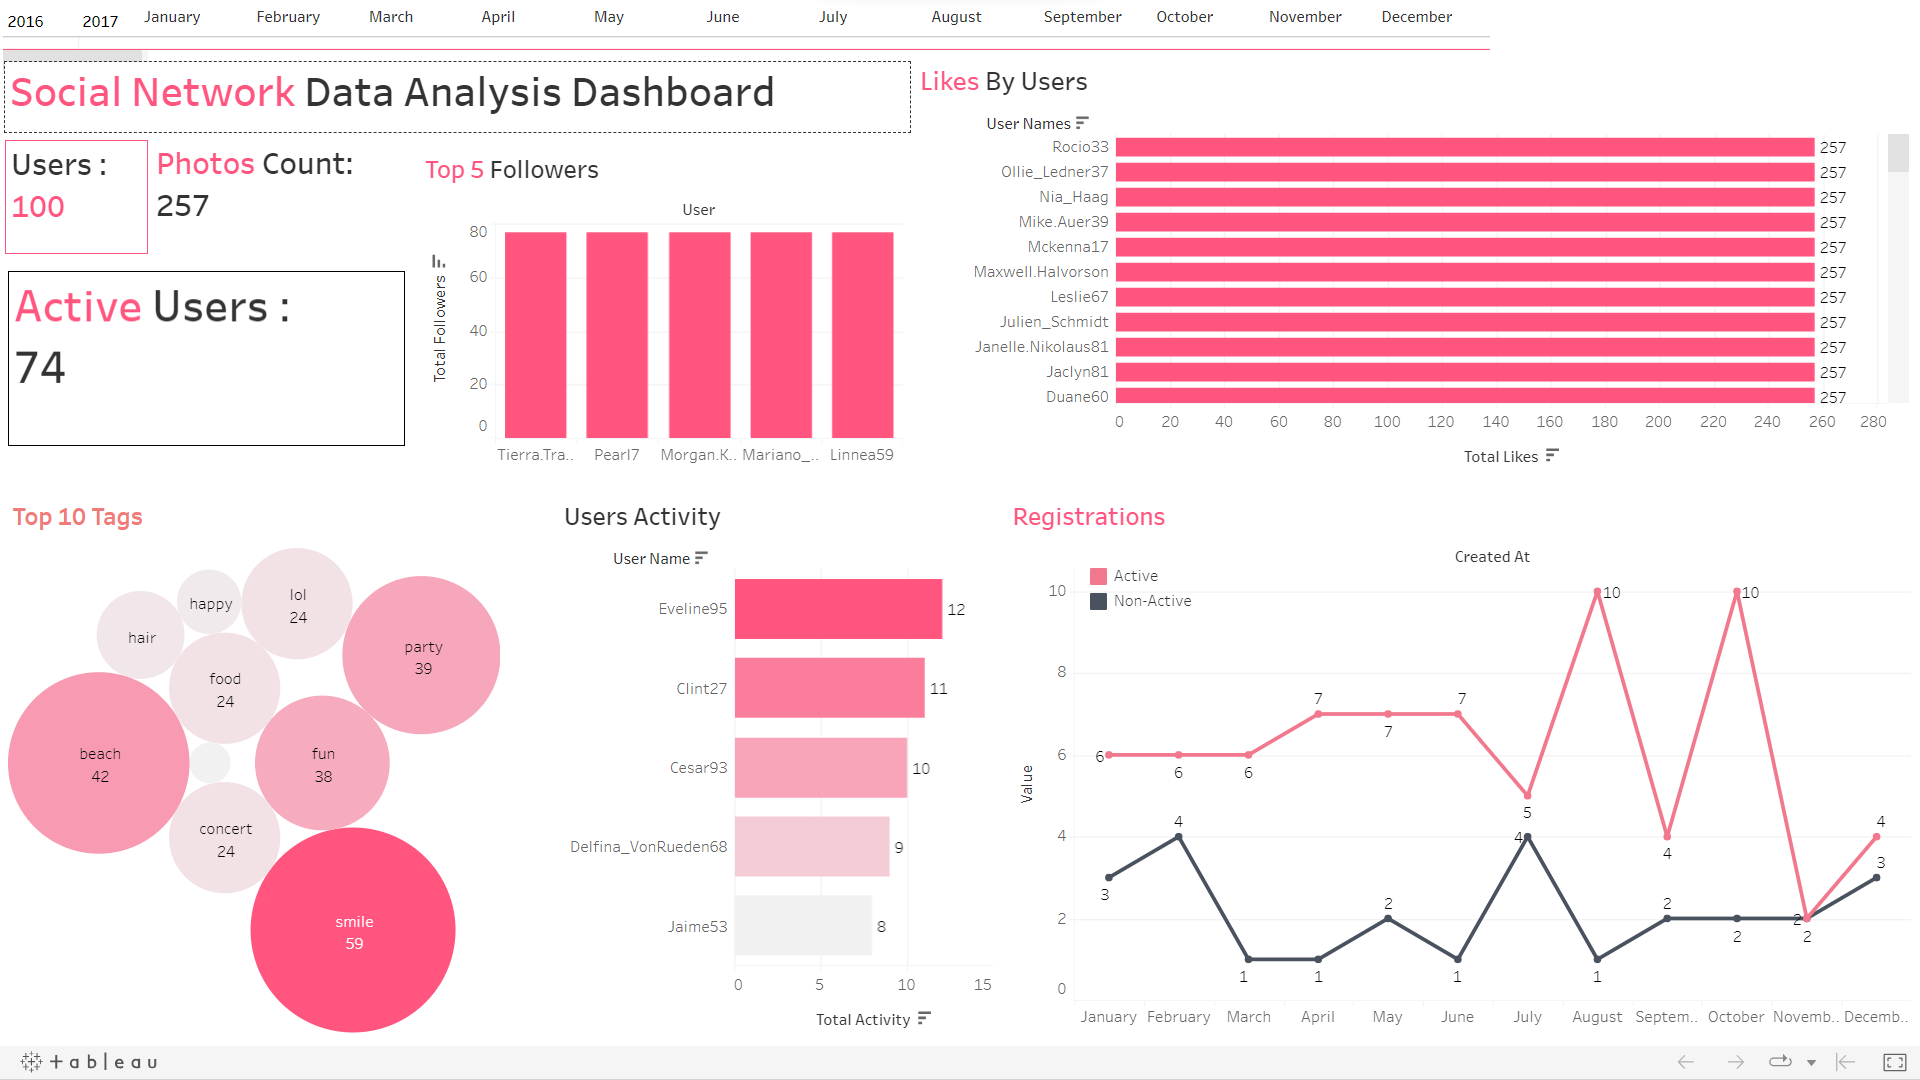

This screenshot's page, from the dashboard's own definition file:
{"tool":"tableau","page":{"name":"Dashboard 1","canvas":[1000,1000],"units":"permille","ordinal":0},"visuals":[{"type":"worksheet","title":"Years","mark":"Automatic","cols":["created_at"],"box":[1.2,5.9,75.4,65.8]},{"type":"worksheet","title":"Likes By Users","mark":"Automatic","rows":["username (Likes By Users.csv)"],"cols":["total_likes"],"box":[476.8,52.9,517.8,399.5]},{"type":"worksheet","title":"Header","mark":"Automatic","box":[1.8,58.8,472.5,68.2]},{"type":"worksheet","title":"Users","mark":"Automatic","box":[2.4,134,74.2,108.1]},{"type":"worksheet","title":"Photo Count","mark":"Automatic","box":[79.1,134,141.2,108.1]},{"type":"worksheet","title":"Total Followers","mark":"Automatic","rows":["total_followers"],"cols":["username (Followers.csv)"],"box":[219.1,137.5,251.1,316.1]},{"type":"worksheet","title":"Total Active Users","mark":"Automatic","box":[4.2,259.7,206.4,166.9]},{"type":"worksheet","title":"Tags","mark":"Circle","box":[3.6,470,281.8,520.6]},{"type":"worksheet","title":"Users Activity","mark":"Automatic","rows":["username (Users Activity.csv)"],"cols":["total_activity"],"box":[290.9,470,226.3,520.6]},{"type":"worksheet","title":"Sign Ups","mark":"Line","cols":["created_at"],"box":[524.4,470,470.7,521.7]},{"type":"legend","title":"Sign Ups","param":"[federated.1foif1p1wrm5180zqbak00xclsy4].[:Measure Names]","box":[566.1,515.9,87.5,81.1]}]}

Visuals, with their boxes on the dashboard's canvas, which has no fixed pixel size, in thousandths of its width and height (x1, y1, x2, y2). These are canvas units, not pixel positions in the 1920x1080 screenshot, which may show the page scaled, cropped or inside an application window:
"Years" worksheet: 1:6:77:72
"Likes By Users" worksheet: 477:53:995:452
"Header" worksheet: 2:59:474:127
"Users" worksheet: 2:134:77:242
"Photo Count" worksheet: 79:134:220:242
"Total Followers" worksheet: 219:138:470:454
"Total Active Users" worksheet: 4:260:211:427
"Tags" worksheet (Circle marks): 4:470:285:991
"Users Activity" worksheet: 291:470:517:991
"Sign Ups" worksheet (Line marks): 524:470:995:992
"Sign Ups" legend: 566:516:654:597
